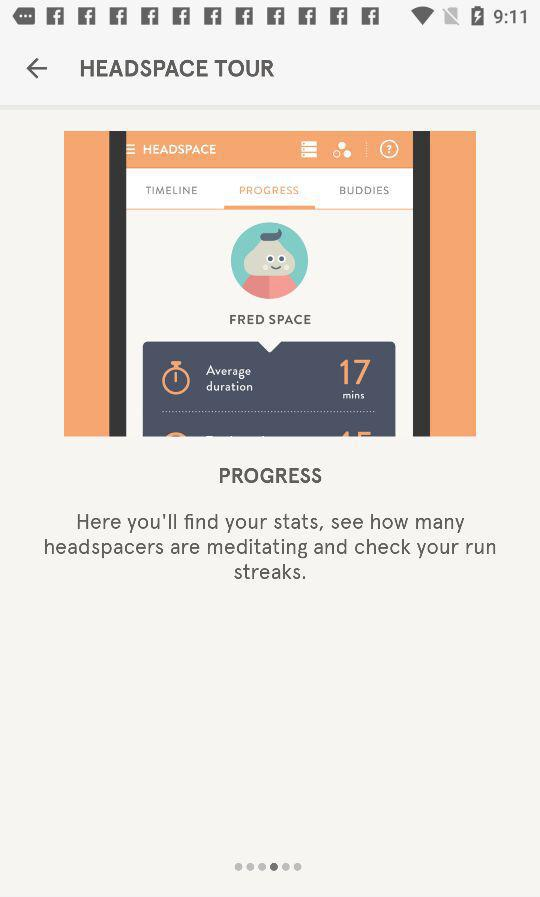Icon: (27, 58, 48, 80)
Image: (64, 131, 476, 438)
PageIndicator: (235, 862, 303, 872)
Text: (45, 514, 496, 580), (81, 60, 275, 78), (220, 468, 322, 484)
Toolbar: (1, 28, 540, 107)
UpperTaskBar: (1, 1, 540, 28)
